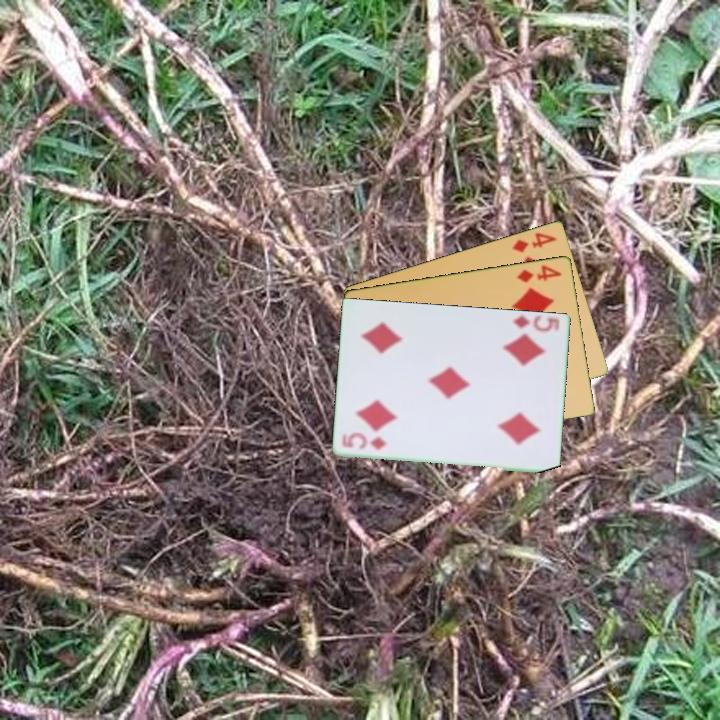4d: (508, 228, 560, 255), (514, 261, 564, 285)
5d: (509, 311, 562, 334), (339, 433, 390, 452)
